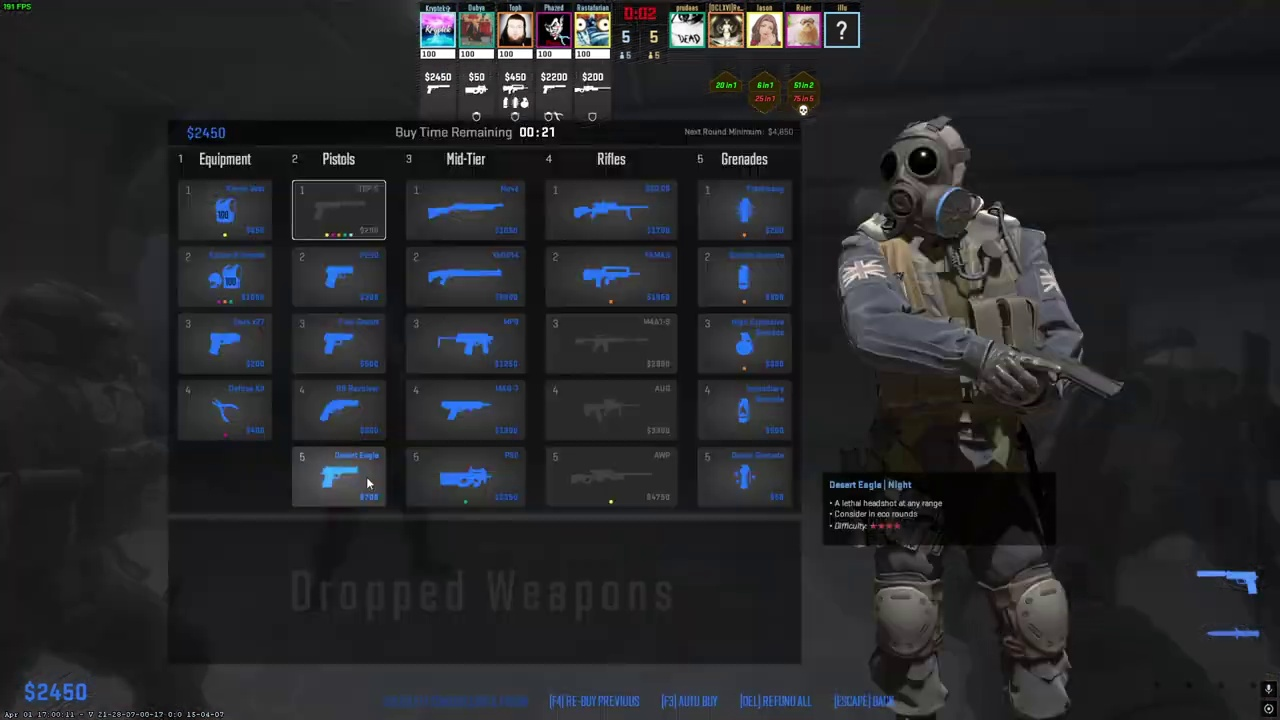CT: (851, 120, 1082, 720)
